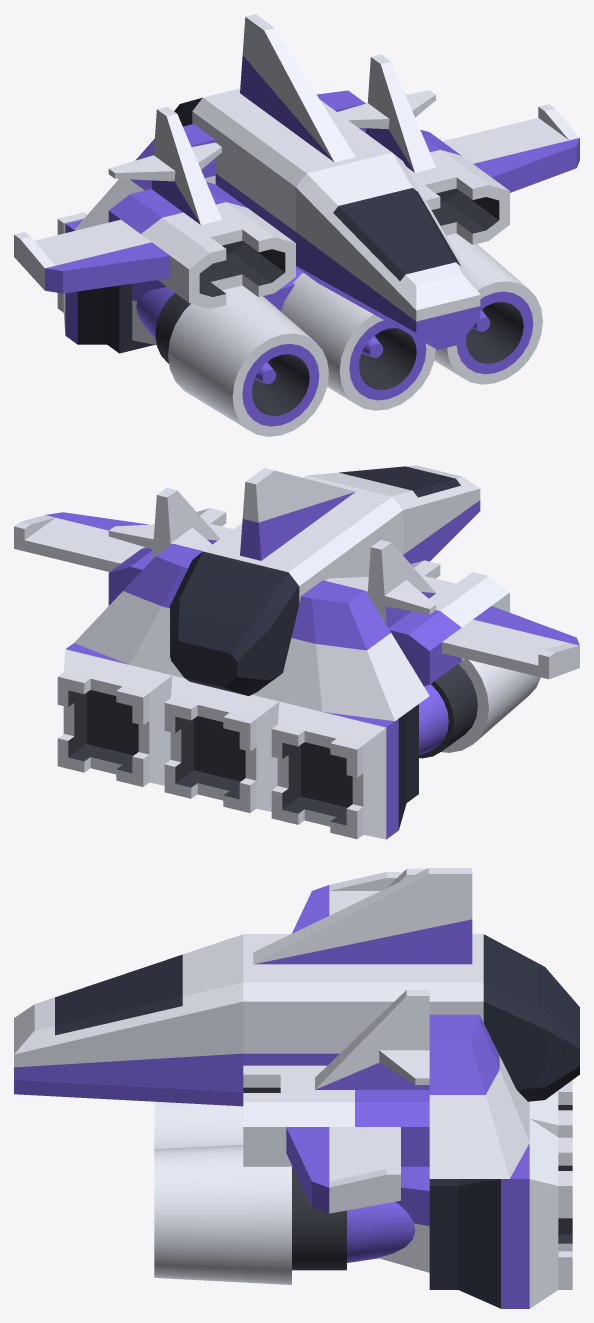
File: TestSpaceship.fbx
3 renders of one model, top to bottom at view 1: azimuth 30°, elevation 25°; view 2: azimuth 150°, elevation 25°; view 3: azimuth 270°, elevation 25°, orthographic. The views are drawn at different scales.
Visible parts, largest first — view 1: engine_round (×3), hull_cockpitPoint, engine_low (×2), wing_slantEdgeWinglet (×2), rudder_sides (×2), hull_body, rudder, engine_turbineSquare, hull_topFront, hull_cockpitSkewed%, hull_front; view 2: engine_turbineSquare (×3), hull_topFront, hull_cockpitSkewed%, wing_slantEdgeWinglet (×2), engine_low (×2), rudder_sides (×2), engine_round, hull_cockpitPoint, hull_body, rudder; view 3: hull_cockpitPoint, engine_round (×2), engine_turbineSquare (×2), hull_body, hull_cockpitSkewed%, rudder, hull_topFront, engine_low, wing_slantEdgeWinglet (×2), rudder_sides, hull_front.
Part boxes in pixels (bbox=[...]): engine_round (×3): bbox=[136, 233, 542, 436]; hull_cockpitPoint: bbox=[296, 152, 480, 349]; engine_low (×2): bbox=[108, 129, 509, 308]; wing_slantEdgeWinglet (×2): bbox=[14, 104, 579, 293]; rudder_sides (×2): bbox=[108, 54, 435, 224]; hull_body: bbox=[215, 100, 391, 279]; rudder: bbox=[240, 14, 355, 162]; engine_turbineSquare: bbox=[57, 212, 154, 353]; hull_topFront: bbox=[74, 90, 365, 230]; hull_cockpitSkewed%: bbox=[174, 88, 257, 139]; hull_front: bbox=[132, 267, 302, 344]; engine_turbineSquare (×3): bbox=[57, 643, 418, 839]; hull_topFront: bbox=[74, 543, 429, 721]; hull_cockpitSkewed%: bbox=[170, 534, 322, 695]; wing_slantEdgeWinglet (×2): bbox=[14, 512, 579, 679]; engine_low (×2): bbox=[108, 508, 509, 686]; rudder_sides (×2): bbox=[108, 488, 435, 627]; engine_round: bbox=[419, 608, 540, 758]; hull_cockpitPoint: bbox=[307, 465, 480, 563]; hull_body: bbox=[227, 475, 402, 580]; rudder: bbox=[240, 468, 355, 560]; hull_cockpitPoint: bbox=[14, 934, 243, 1106]; engine_round (×2): bbox=[154, 1101, 415, 1284]; engine_turbineSquare (×2): bbox=[429, 1080, 572, 1308]; hull_body: bbox=[243, 934, 429, 1065]; hull_cockpitSkewed%: bbox=[429, 934, 579, 1101]; rudder: bbox=[253, 868, 472, 964]; hull_topFront: bbox=[429, 1014, 529, 1178]; engine_low: bbox=[243, 1065, 429, 1166]; wing_slantEdgeWinglet (×2): bbox=[286, 872, 400, 1213]; rudder_sides: bbox=[315, 990, 429, 1089]; hull_front: bbox=[378, 1167, 429, 1272].
Bounding box in the file's own units: 50 × 26.72 × 39.5.
